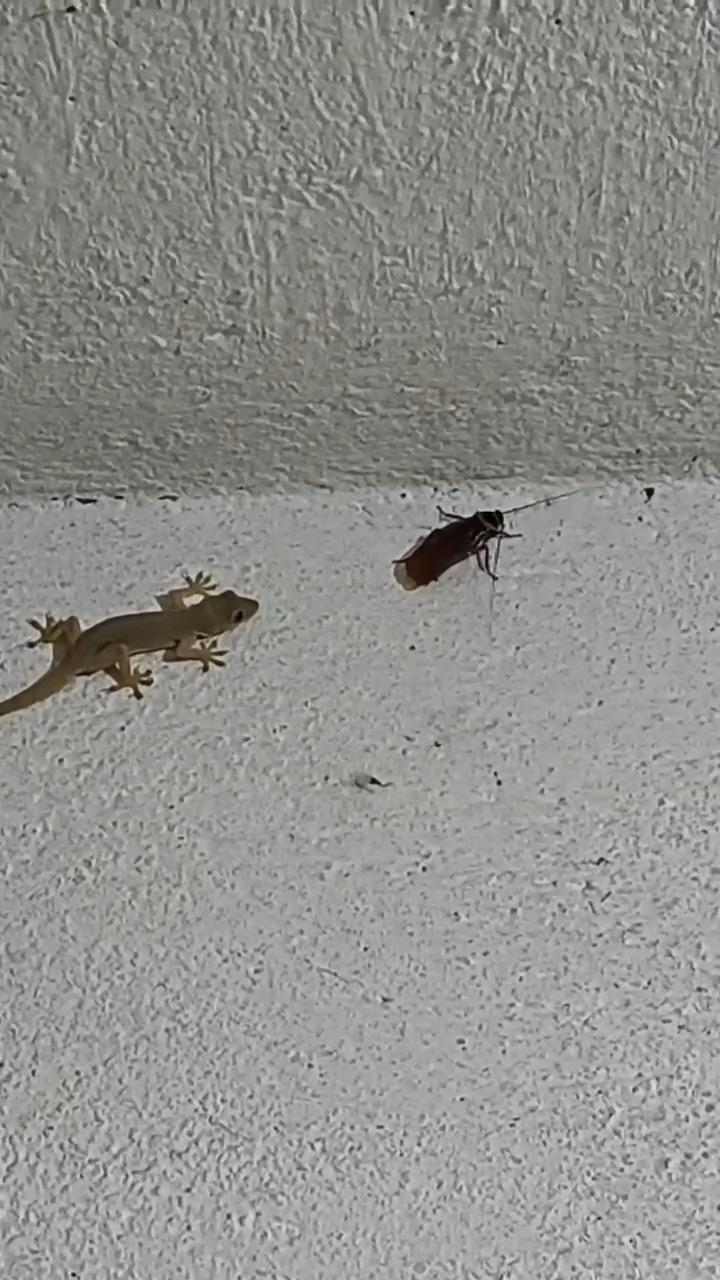cockroach: (388, 489, 557, 604)
lizard: (0, 558, 263, 720)
